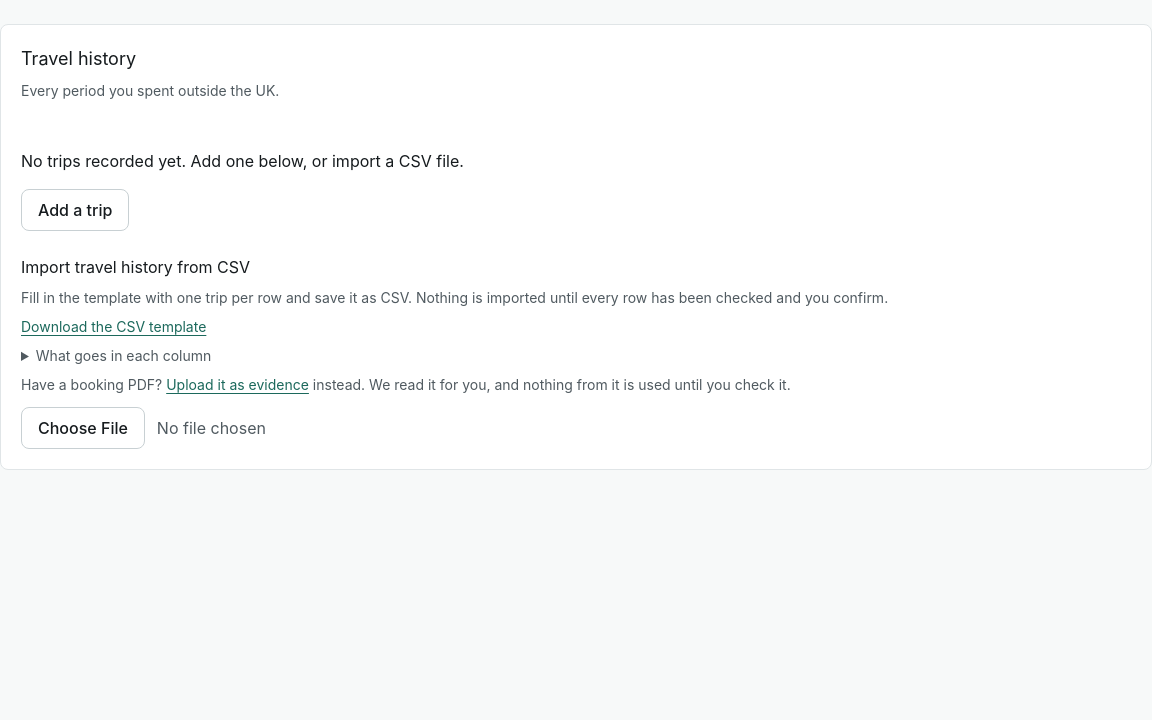
Test: TravelHistory › sends the reason with a new trip, trimmed
The width and height of the screenshot is (1152, 720).
Click the button "Add a trip" at (75, 210), box [21,189,129,231]
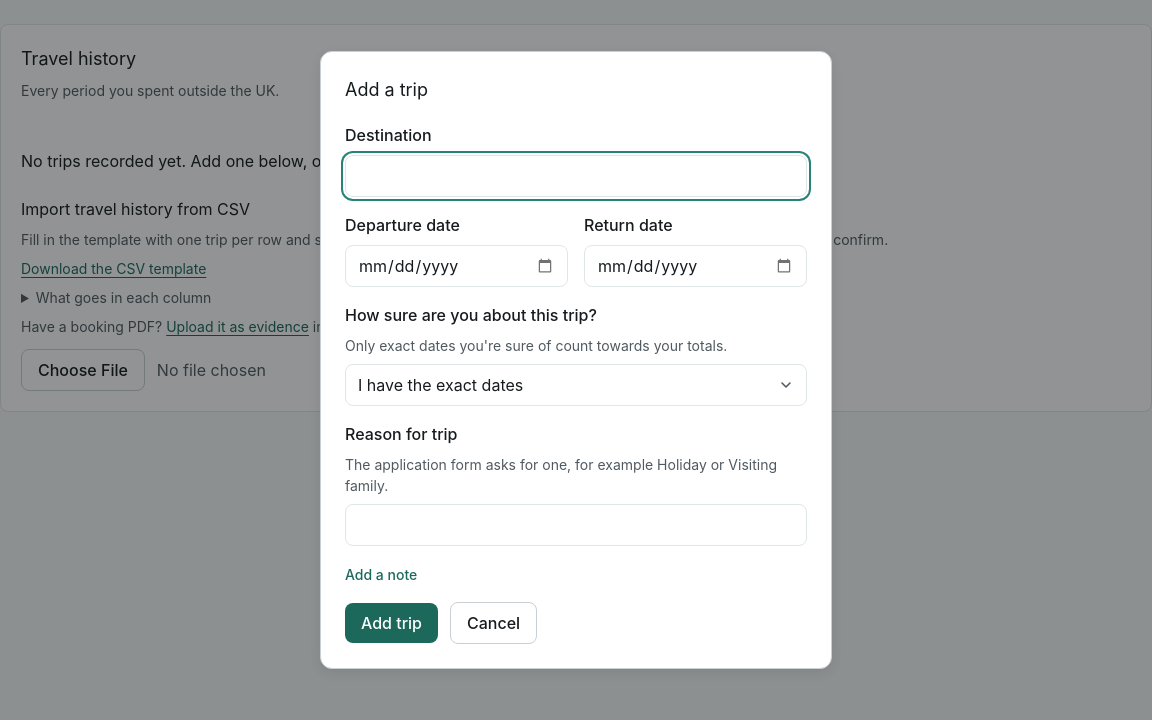
Type "Spain" into the dropdown labelled "Destination" at (576, 176), box [345,155,807,197]
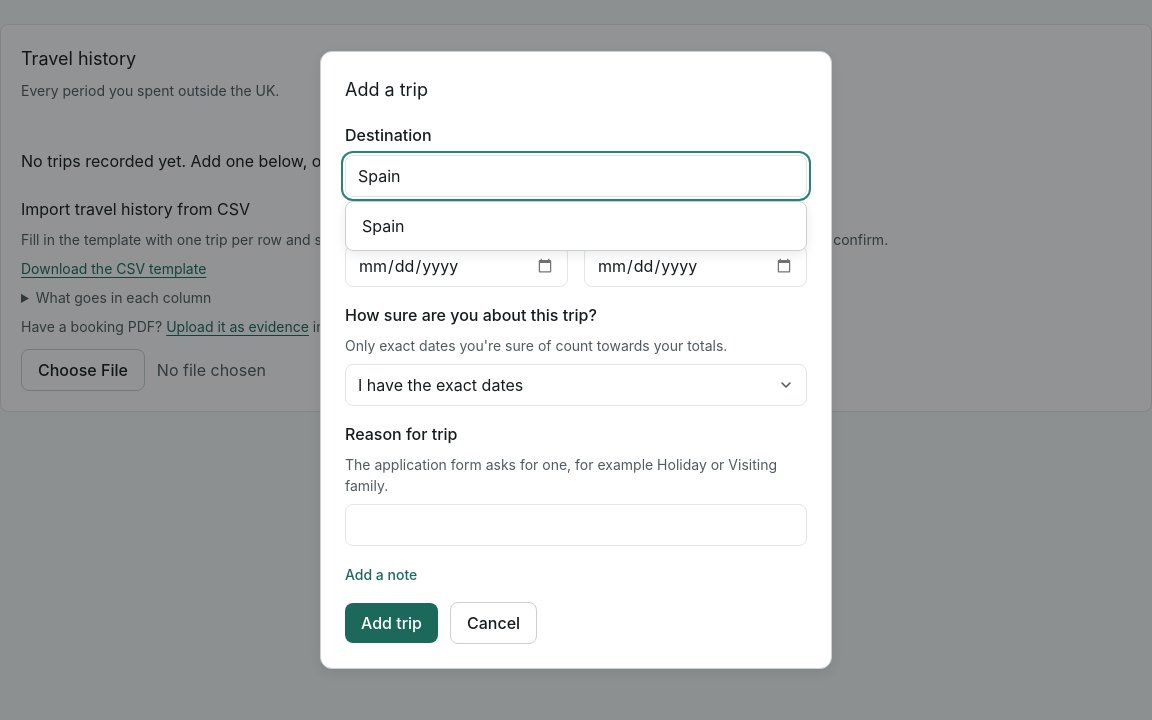
Type "2022-04-14" into the date field labelled "Departure date" at (456, 266), box [345,245,568,287]
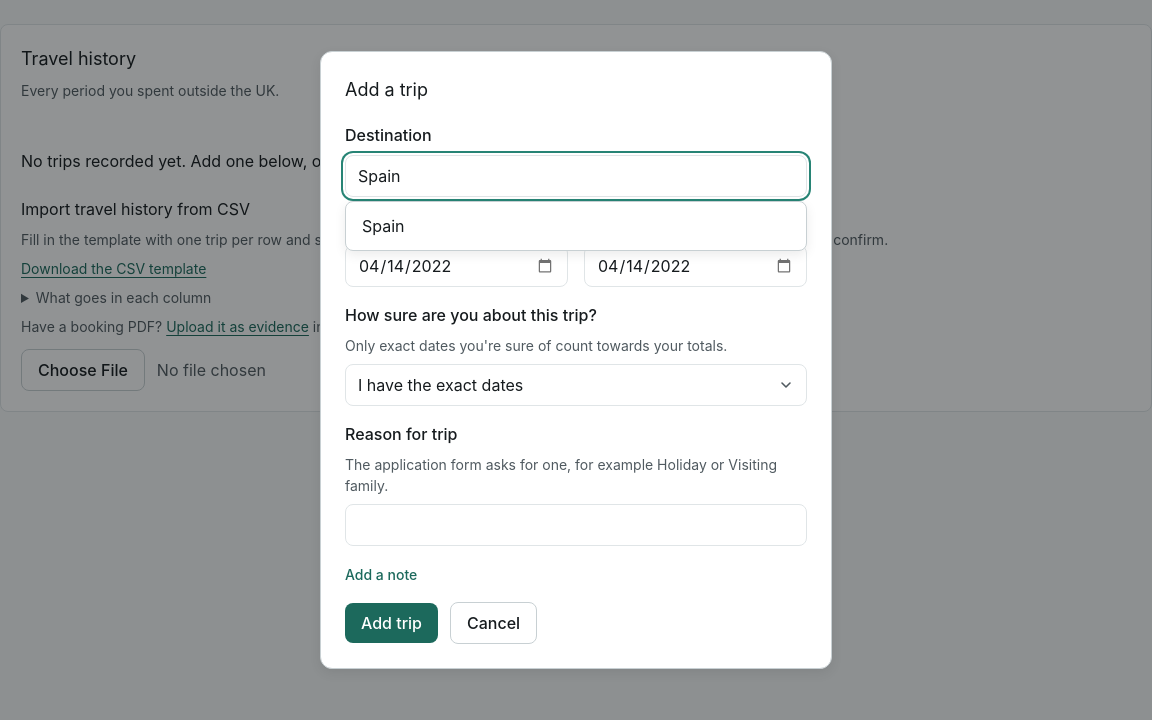
Type "2022-04-26" into the date field labelled "Return date" at (696, 266), box [584,245,807,287]
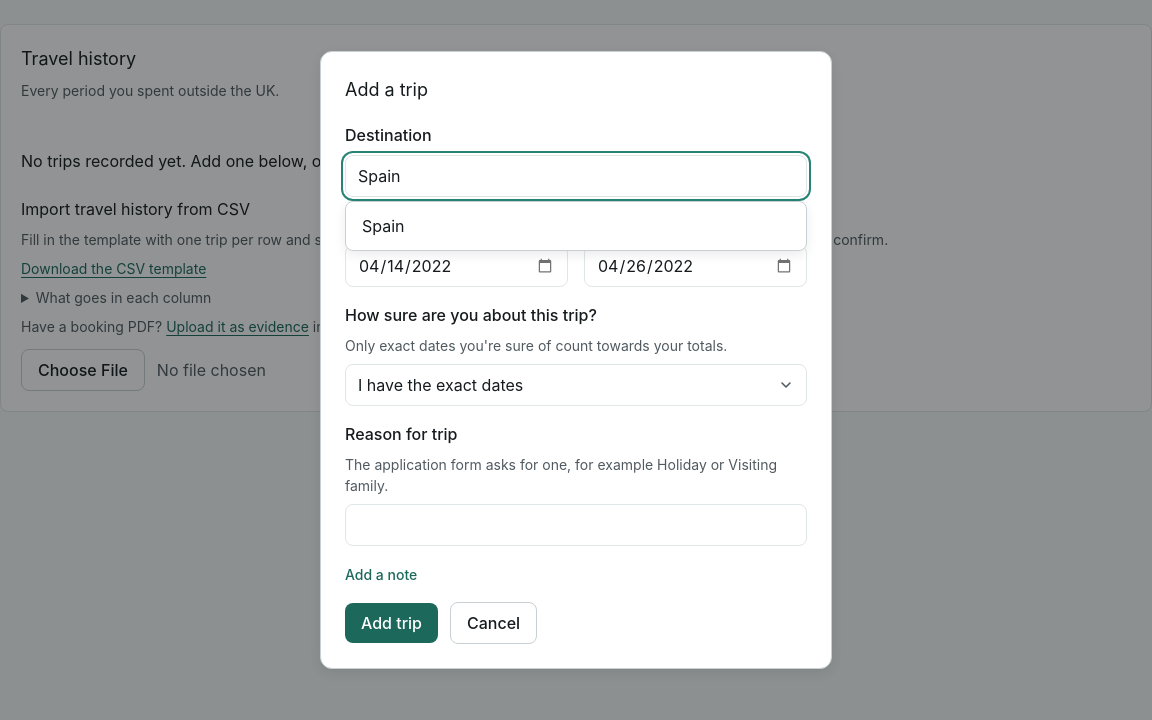
Type "  Holiday " into the field labelled "Reason for trip" at (576, 525), box [345,504,807,546]
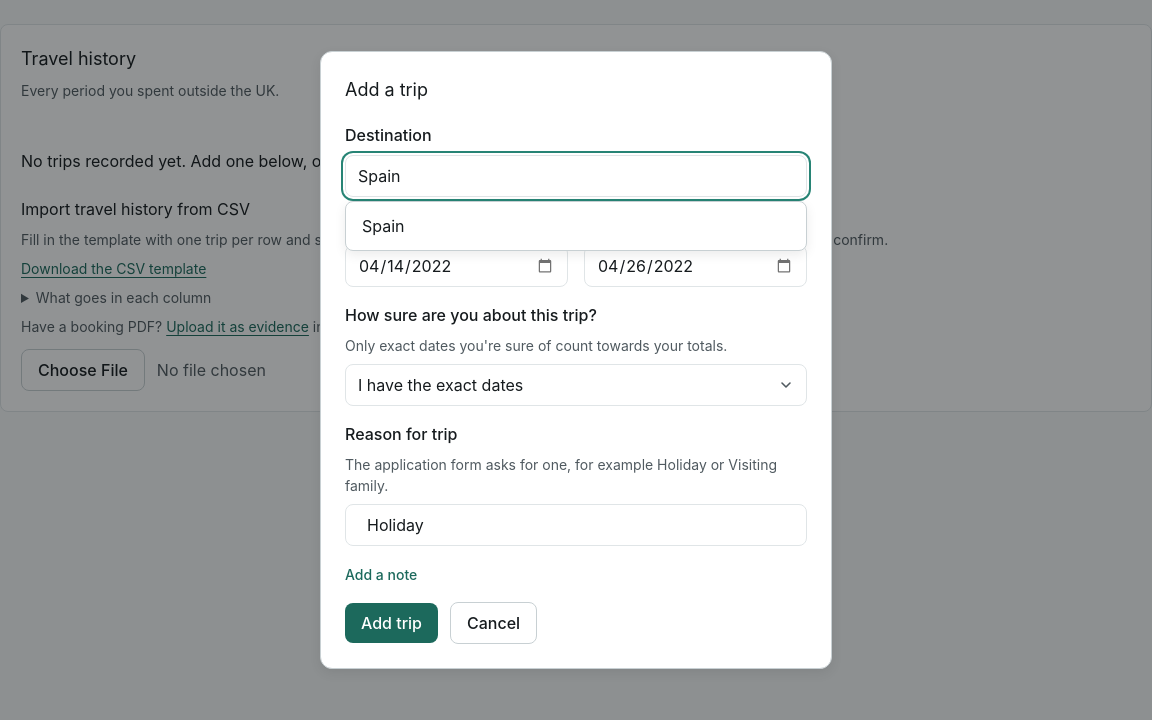
Click the button "Add trip" at (392, 623), box [345,603,438,643]
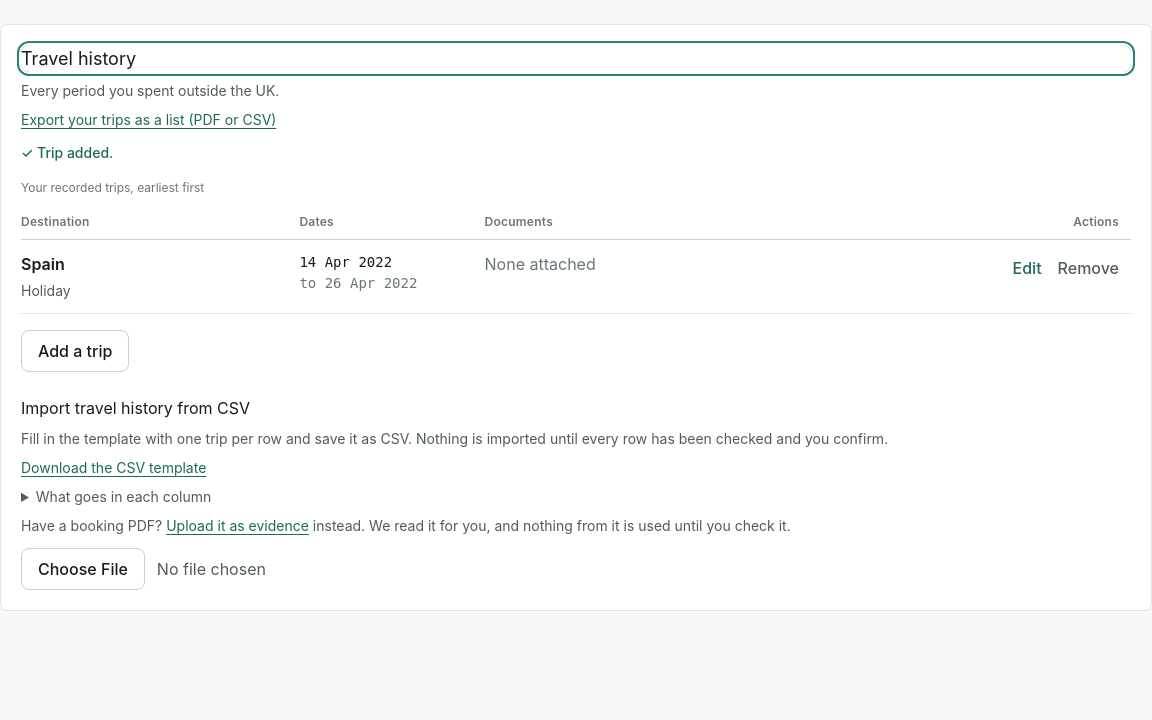
Expected: the text "Trip added." is shown, [37,144,113,161]
Expected: the column heading "Spain Holiday" is shown, [21,240,287,314]
